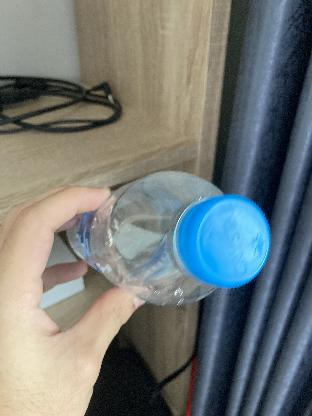Plastic Bottle: (60, 166, 274, 308)
